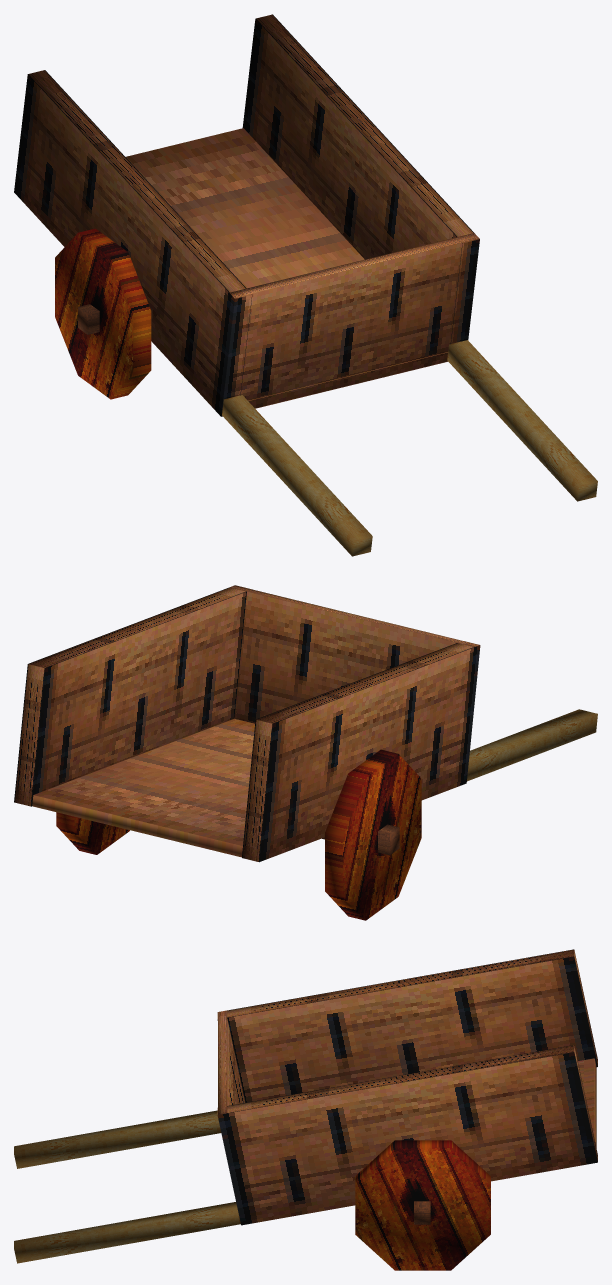
The model's file is CART_ACTORDEF.fbx.
3 views of the same model, one above another, from view 1: azimuth 30°, elevation 25°; view 2: azimuth 150°, elevation 25°; view 3: azimuth 270°, elevation 25° (orthographic). The views are drawn at different scales.
Parts seen in each view (by area): view 1: U3DMesh; view 2: U3DMesh; view 3: U3DMesh.
Part boxes in pixels (box(x1,y1,x2,y2)): U3DMesh: box(14, 14, 597, 556); U3DMesh: box(14, 585, 597, 920); U3DMesh: box(14, 949, 597, 1270).
Size of the model in its own units: 7.59 by 5.73 by 14.34.
